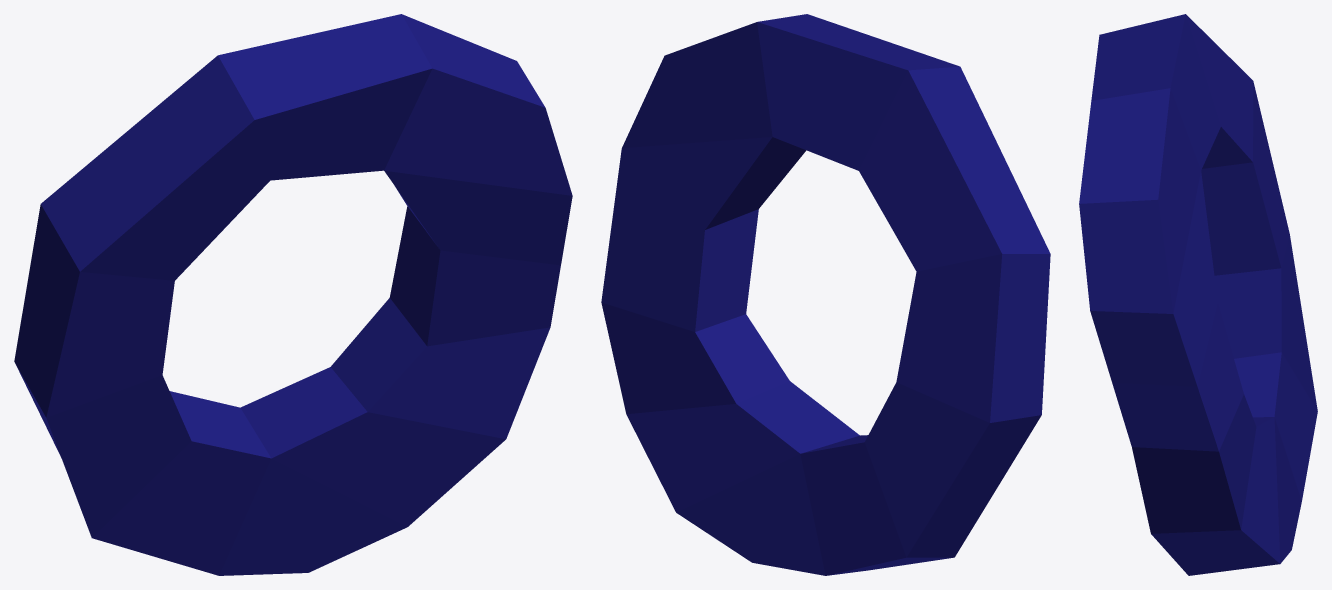
The picture shows the model from 3 angles, left to right: view 1: azimuth 30°, elevation 25°; view 2: azimuth 150°, elevation 25°; view 3: azimuth 270°, elevation 25°; orthographic projection. The views are drawn at different scales.
Parts seen in each view (by area): view 1: mesh_O; view 2: mesh_O; view 3: mesh_O.
Part boxes in pixels (bbox=[...]): mesh_O: bbox=[14, 14, 572, 575]; mesh_O: bbox=[601, 14, 1050, 575]; mesh_O: bbox=[1079, 14, 1317, 575].
Bounding box in the file's own units: 71.33 × 78.62 × 33.35.
